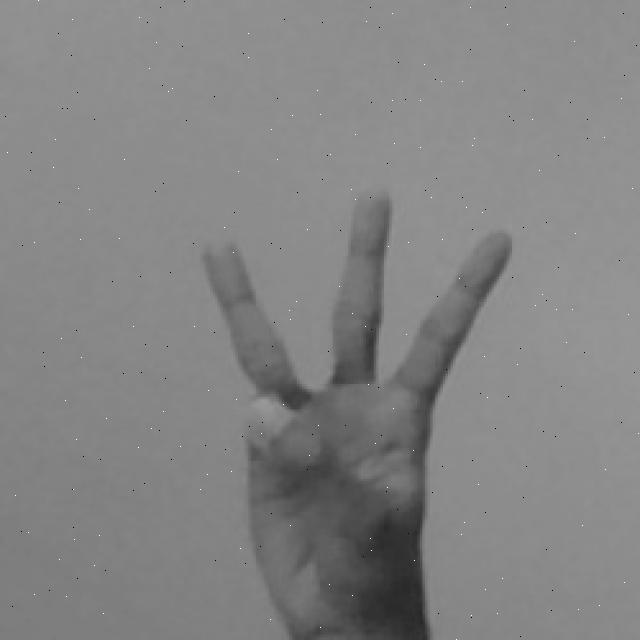W: (198, 176, 516, 640)
